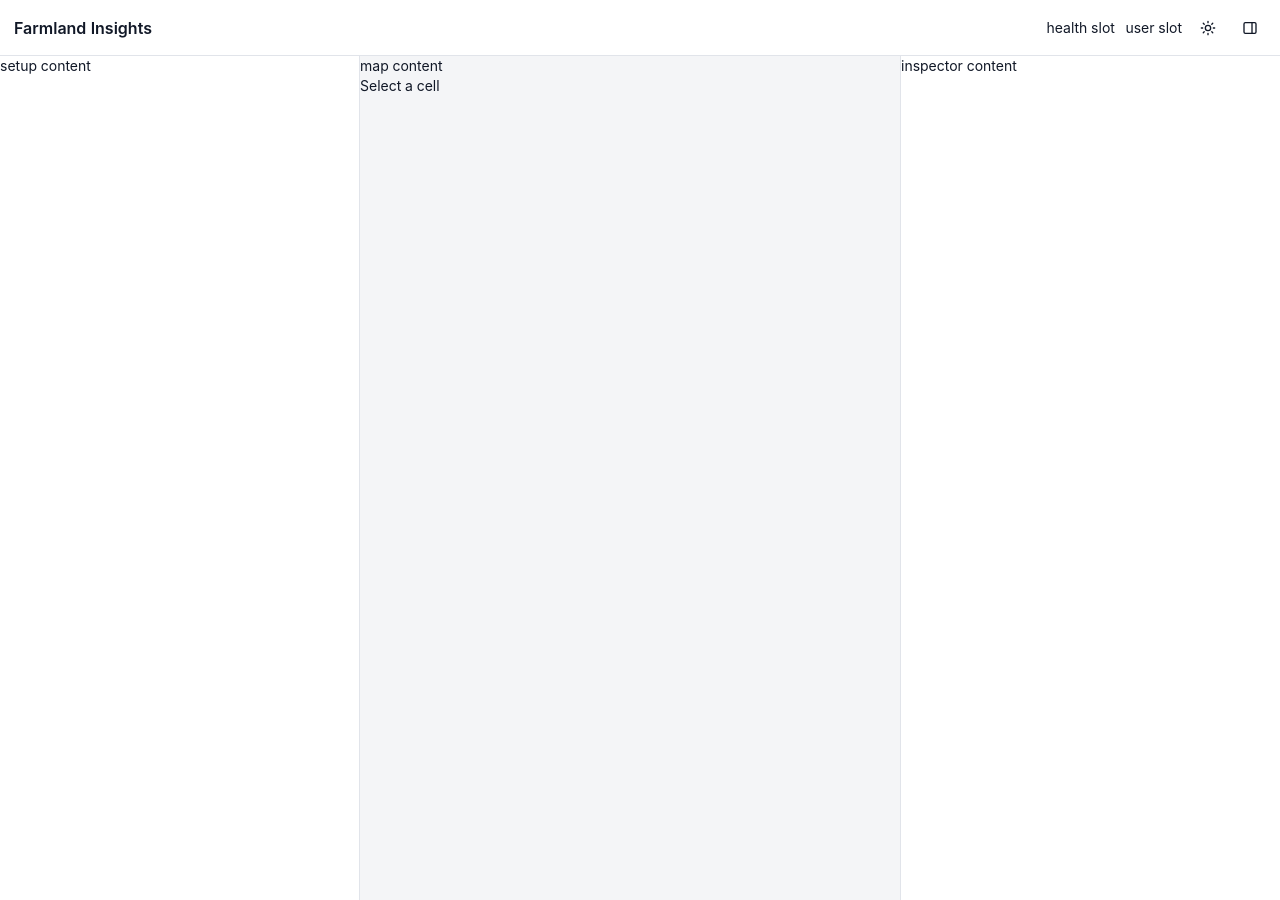
Test: AppShell › collapses and restores the inspector with its toggle, reporting the state
Click the button named "Hide inspector".
click(1250, 28)  # box [1234,12,1266,43]
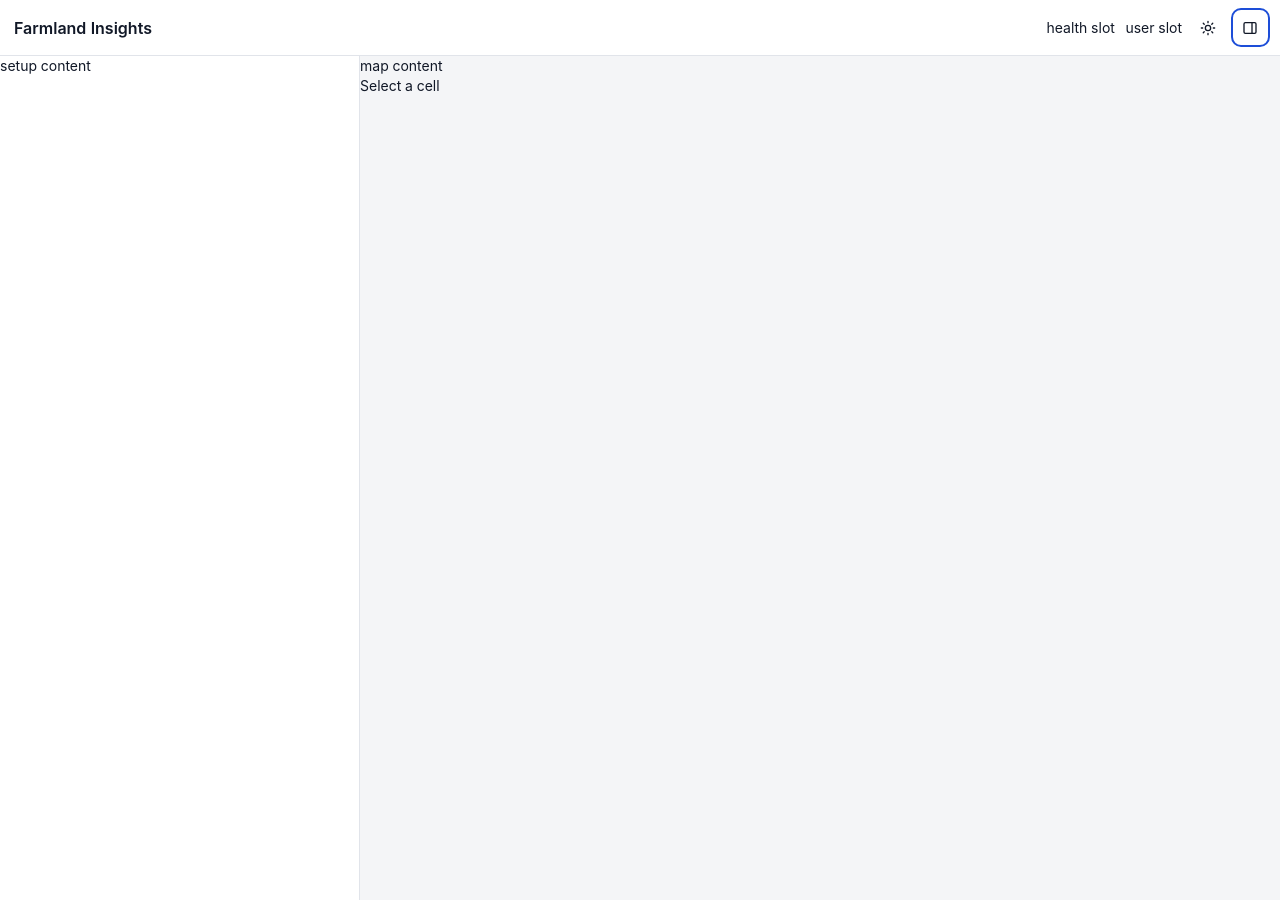
Expected: the text "inspector" is gone
Click the button named "Show inspector".
click(1250, 28)  # box [1234,12,1266,43]
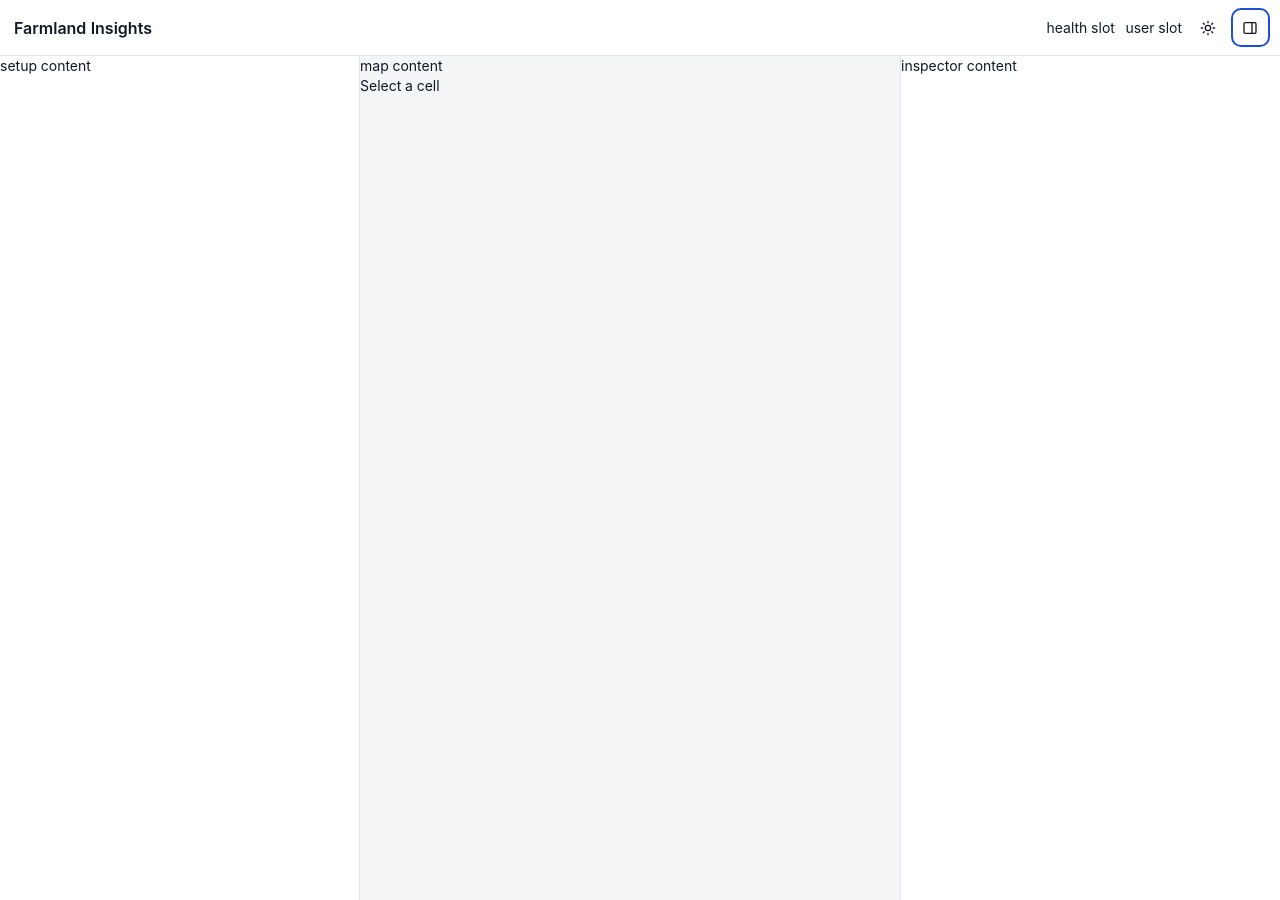
Expected: the element "inspector" is shown, [900,56,1279,899]
